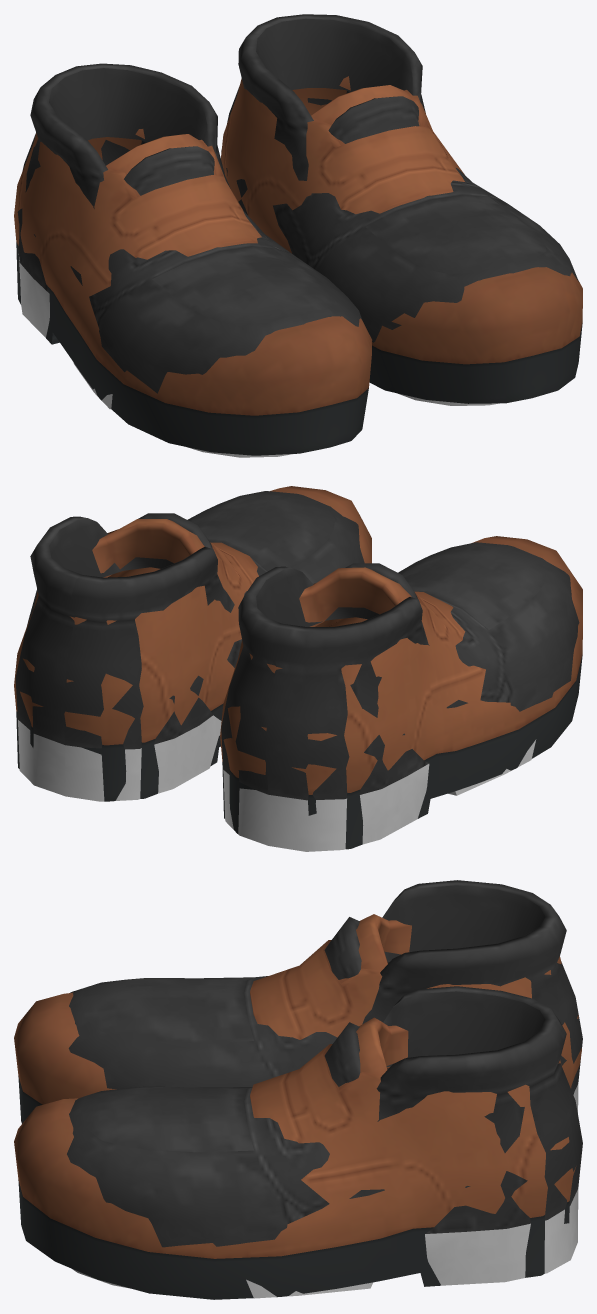
Rendered from p0_ftw0000_00_ftw00.gltf.
3 renders of one model, top to bottom at view 1: azimuth 30°, elevation 25°; view 2: azimuth 150°, elevation 25°; view 3: azimuth 270°, elevation 25°, orthographic. The views are drawn at different scales.
Visible parts, largest first — view 1: ftw00_shoes01_mesh_shape:shoes01, ftw00_shoes00_mesh_shape:shoes00; view 2: ftw00_shoes00_mesh_shape:shoes00, ftw00_shoes01_mesh_shape:shoes01; view 3: ftw00_shoes00_mesh_shape:shoes00, ftw00_shoes01_mesh_shape:shoes01.
Part boxes in pixels (bbox=[...]): ftw00_shoes01_mesh_shape:shoes01: bbox=[14, 76, 582, 455]; ftw00_shoes00_mesh_shape:shoes00: bbox=[17, 14, 578, 457]; ftw00_shoes00_mesh_shape:shoes00: bbox=[15, 491, 579, 851]; ftw00_shoes01_mesh_shape:shoes01: bbox=[14, 486, 582, 849]; ftw00_shoes00_mesh_shape:shoes00: bbox=[67, 880, 582, 1298]; ftw00_shoes01_mesh_shape:shoes01: bbox=[14, 914, 581, 1299].
Size of what is drawn, in the model's own units: 0.259 by 0.1212 by 0.2805.
2 materials, 2 textured.
